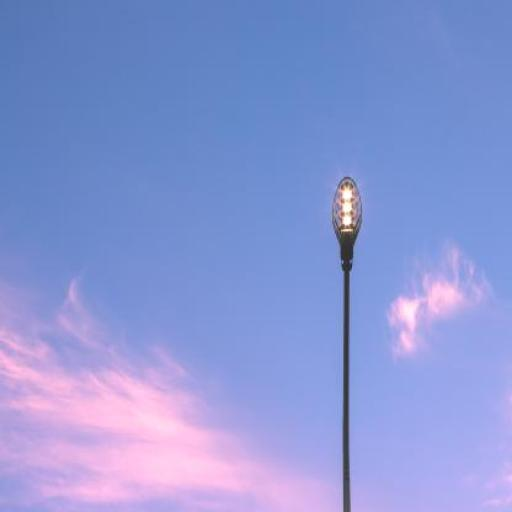street light: (331, 175, 363, 511)
